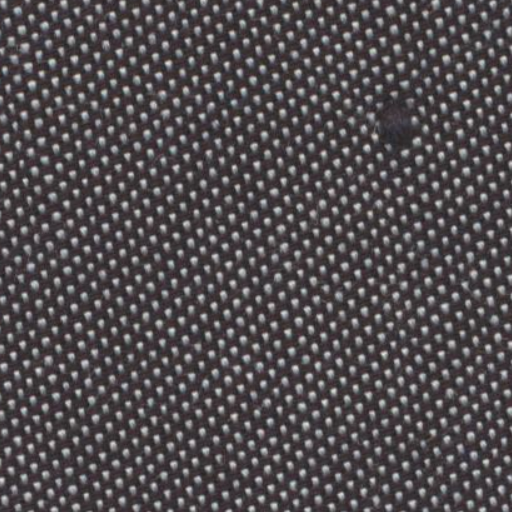MianQiu: (344, 74, 449, 166)
